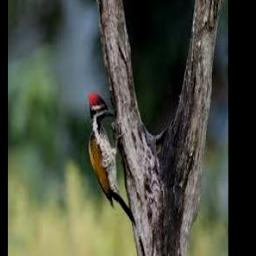Woodpecker: (89, 94, 136, 224)
